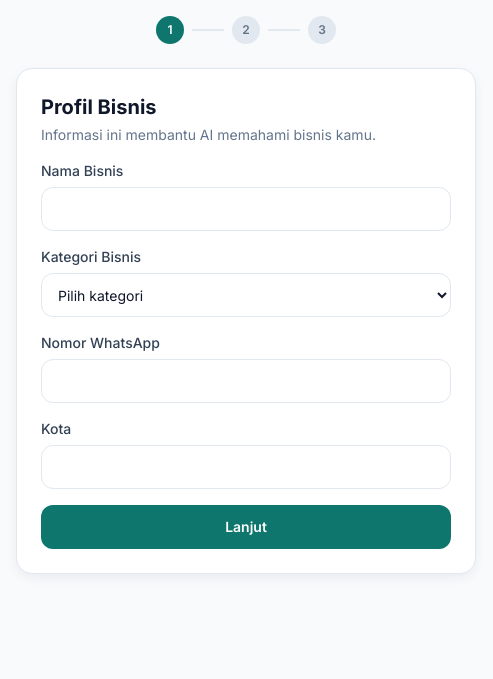
Test: OnboardingPage step gating › blocks advancing from step 1 until required fields are valid
Expected: the heading "Profil Bisnis" is shown, top-left (41, 95), bottom-right (156, 119)
Click the button "Lanjut": [246, 527] box top-left (41, 505), bottom-right (451, 549)
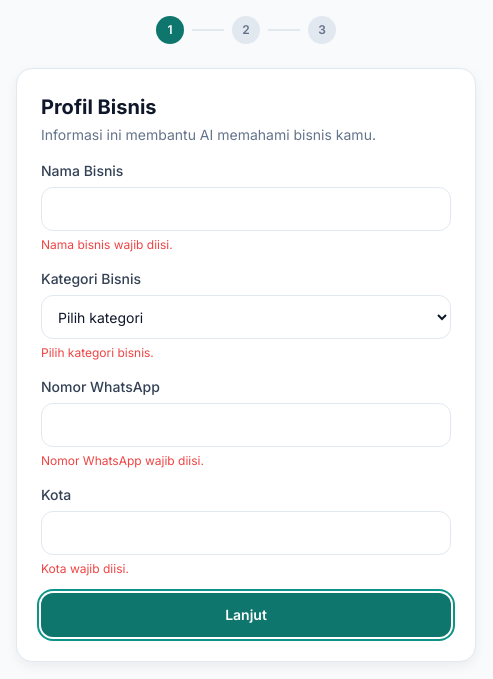
Expected: the heading "Profil Bisnis" is shown, top-left (41, 95), bottom-right (156, 119)
Expected: the text "Pilih kategori bisnis." is shown, top-left (41, 345), bottom-right (154, 360)
